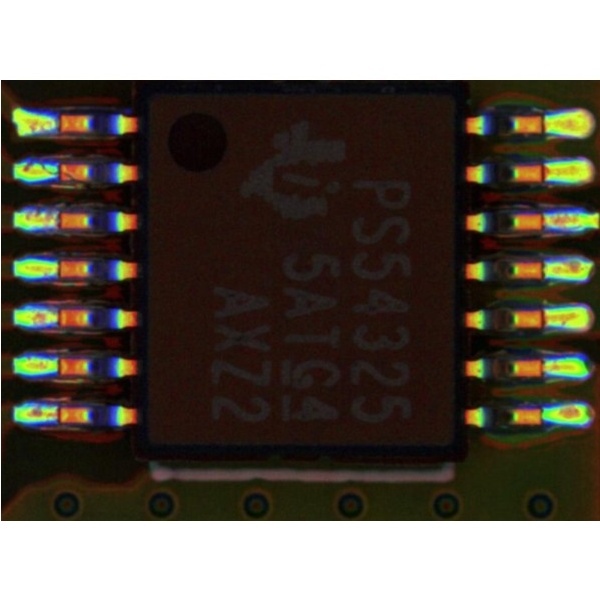Bad_podu: (524, 118, 563, 129), (530, 166, 562, 179), (528, 312, 559, 323), (524, 362, 560, 370), (40, 409, 68, 418)
